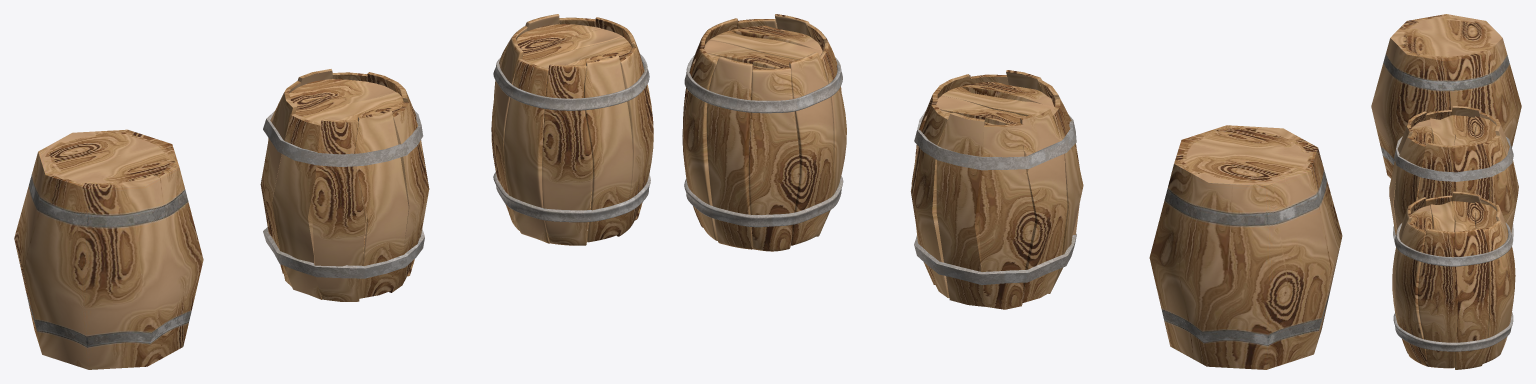
3 renders of one model, left to right at view 1: azimuth 30°, elevation 25°; view 2: azimuth 150°, elevation 25°; view 3: azimuth 270°, elevation 25°, orthographic. The views are drawn at different scales.
Visible parts, largest first — view 1: barrel_imposter, barrel_low_wood_1_0, barrel_high_wood_1_0, barrel_low_metal_iron_0, barrel_high_metal_iron_0; view 2: barrel_imposter, barrel_low_wood_1_0, barrel_high_wood_1_0, barrel_low_metal_iron_0, barrel_high_metal_iron_0; view 3: barrel_high_wood_1_0, barrel_imposter, barrel_low_wood_1_0, barrel_high_metal_iron_0, barrel_low_metal_iron_0.
Boxes of the visible parts, box(x1,y1,x2,y2) form: barrel_imposter: box(14, 129, 203, 369); barrel_low_wood_1_0: box(260, 69, 429, 301); barrel_high_wood_1_0: box(491, 14, 653, 245); barrel_low_metal_iron_0: box(263, 110, 424, 278); barrel_high_metal_iron_0: box(493, 54, 650, 222); barrel_imposter: box(1149, 125, 1342, 369); barrel_low_wood_1_0: box(910, 70, 1083, 309); barrel_high_wood_1_0: box(682, 14, 846, 251); barrel_low_metal_iron_0: box(914, 111, 1076, 284); barrel_high_metal_iron_0: box(684, 55, 843, 227); barrel_high_wood_1_0: box(1392, 191, 1515, 369); barrel_imposter: box(1371, 14, 1521, 178); barrel_low_wood_1_0: box(1389, 106, 1518, 234); barrel_high_metal_iron_0: box(1393, 222, 1513, 351); barrel_low_metal_iron_0: box(1393, 136, 1513, 244).
Bounding box in the file's own units: 141 × 39.34 × 38.31.
Materials: 3 (3 with a texture image).
